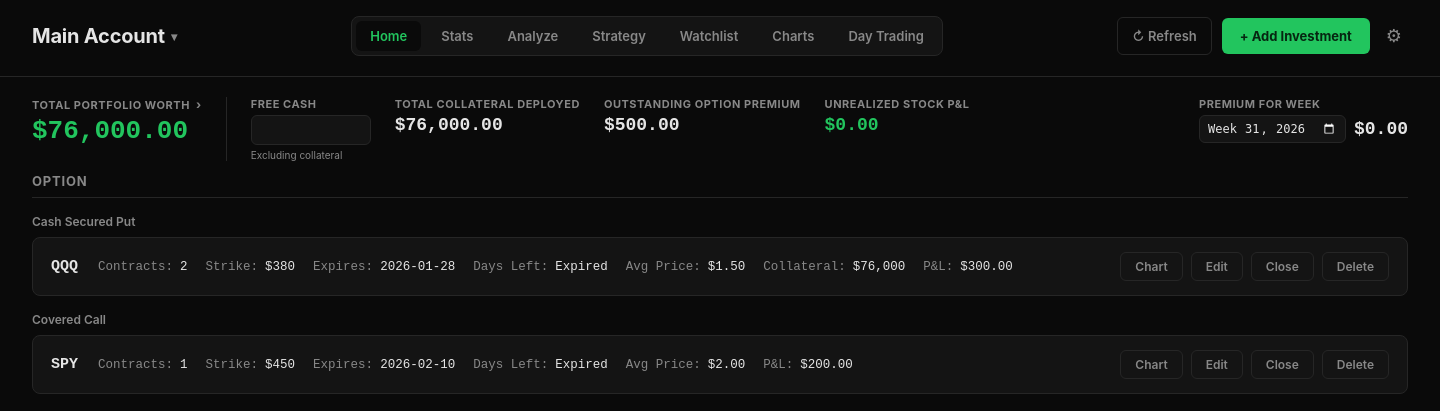
Test: InvestmentsPage › shows the premium-for-week selector and updates the total when the week changes
Replace the text in the field labelled "Premium for week" with "2026-W05" at point(1272, 129), box [1199, 115, 1346, 143]
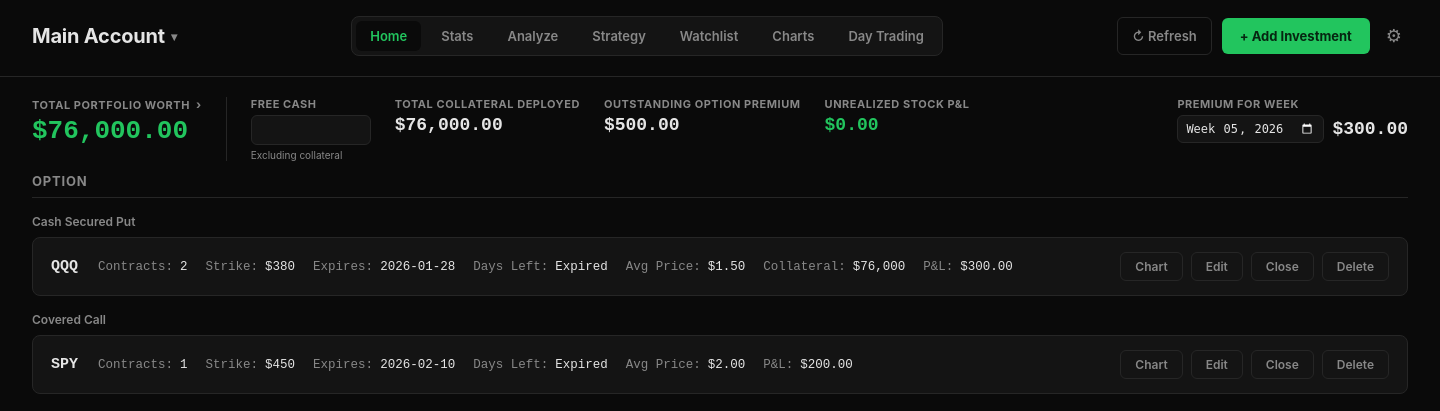
Now the element labelled "Premium for week $300.00" is shown, box [1177, 97, 1408, 161]
